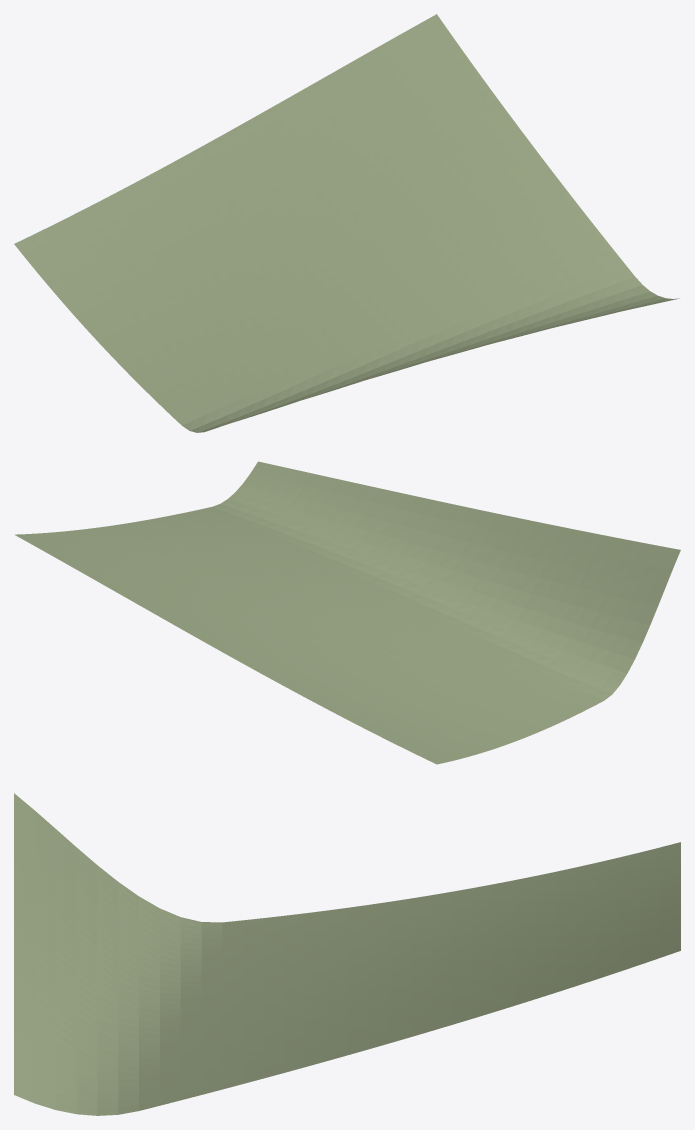
File: alpine-6-10.glb
3 views of the same model, one above another, from view 1: azimuth 30°, elevation 25°; view 2: azimuth 150°, elevation 25°; view 3: azimuth 270°, elevation 25° (orthographic). The views are drawn at different scales.
Visible parts, largest first — view 1: alpine-6-10; view 2: alpine-6-10; view 3: alpine-6-10.
Part boxes in pixels (x1=…): alpine-6-10: x1=14, y1=14, x2=679, y2=432; alpine-6-10: x1=14, y1=461, x2=680, y2=764; alpine-6-10: x1=14, y1=793, x2=680, y2=1115.
Size of the model in its own units: 256 by 107 by 256.
